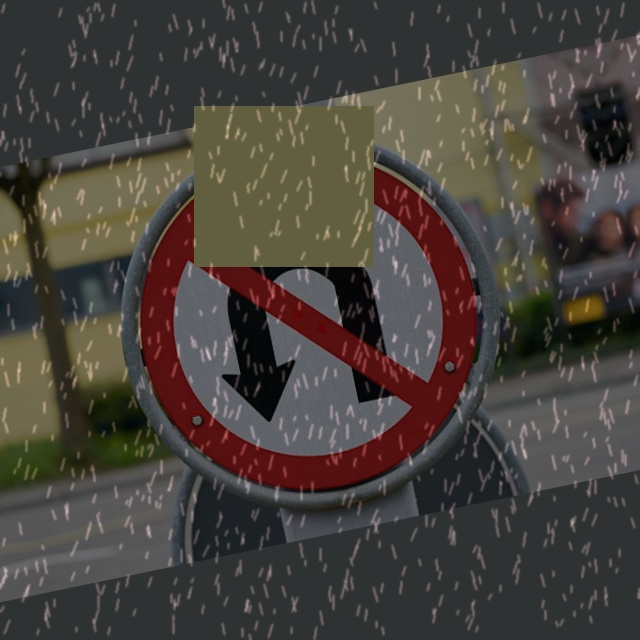U_Turn_Prohibited: (93, 105, 533, 541)
